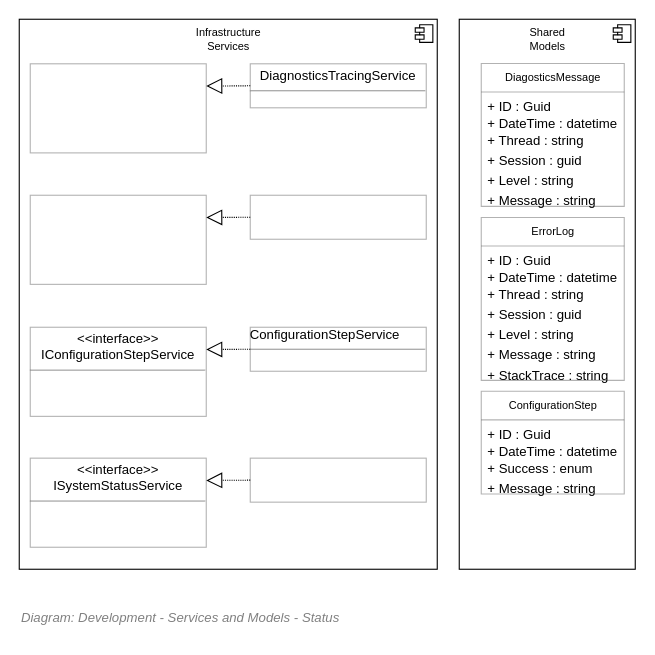
The diagram is 655 pixels wide and 655 high, and some of its shapes have lost their labels. Here are the shapes that lost their labels. From the top down, the centre of each, then its label:
At (117,108): "<<interface>> IDiagnosticsTracingService".
At (337,216): "ErrorLogging Service".
At (117,239): "<<interface>> IErrorLoggingService".
At (337,479): "SystemStatus Service".
